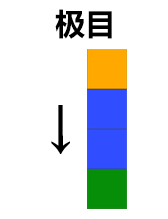arrow: (43, 99, 79, 161)
